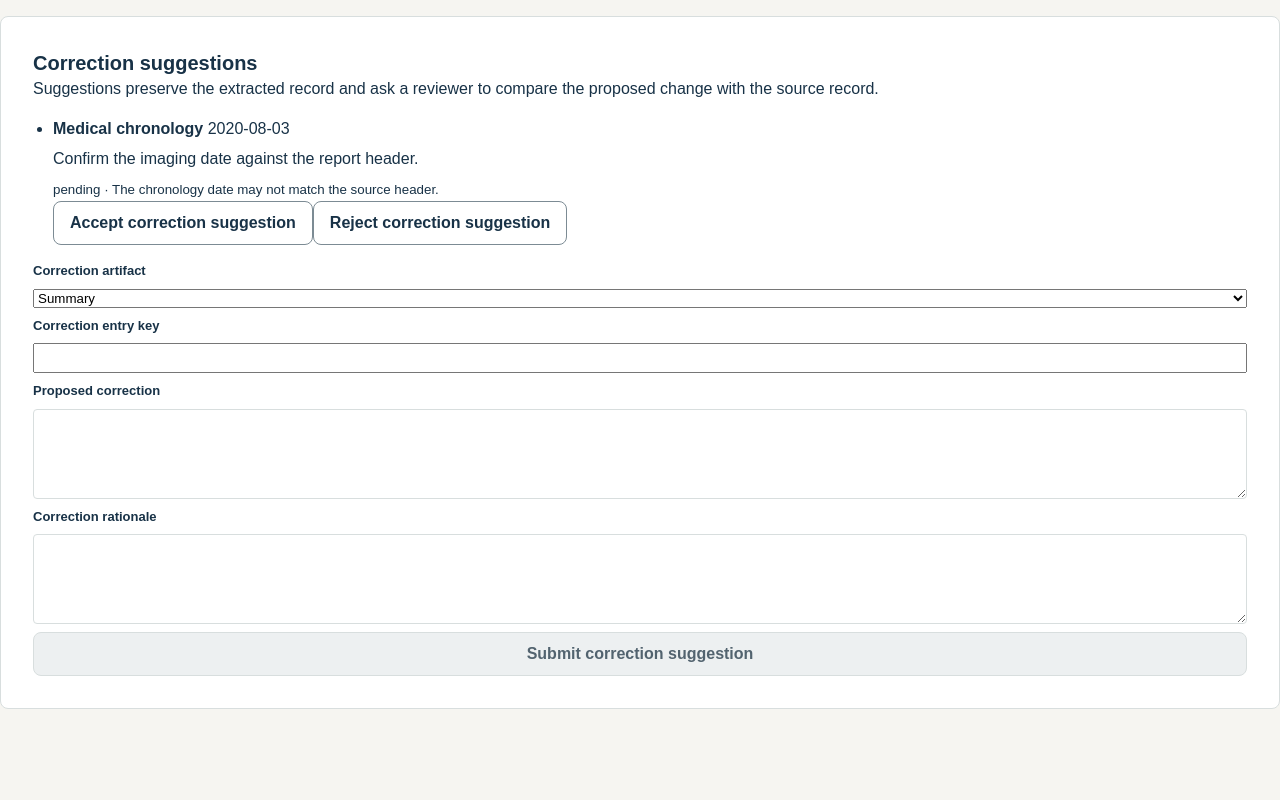
it: submits a correction suggestion and displays the pending revision-scoped item
Expected: the text "Confirm the imaging date against the report header." is shown, [53,150,419,167]
Select "Medical chronology" in the dropdown labelled "Correction artifact" at (640, 298), box [33,288,1247,308]
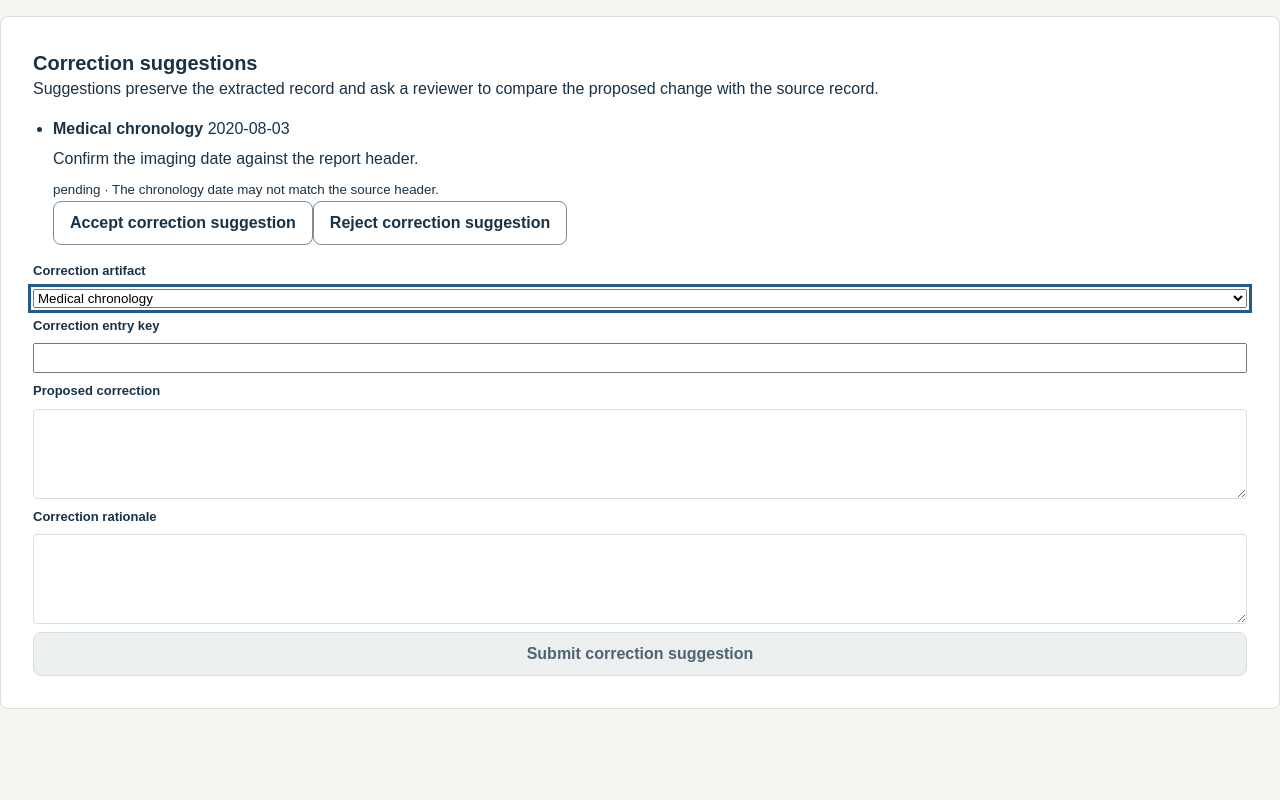
Type "2020-08-04" into the field labelled "Correction entry key".
click(640, 358); type("2020-08-04")  # box [33,343,1247,373]
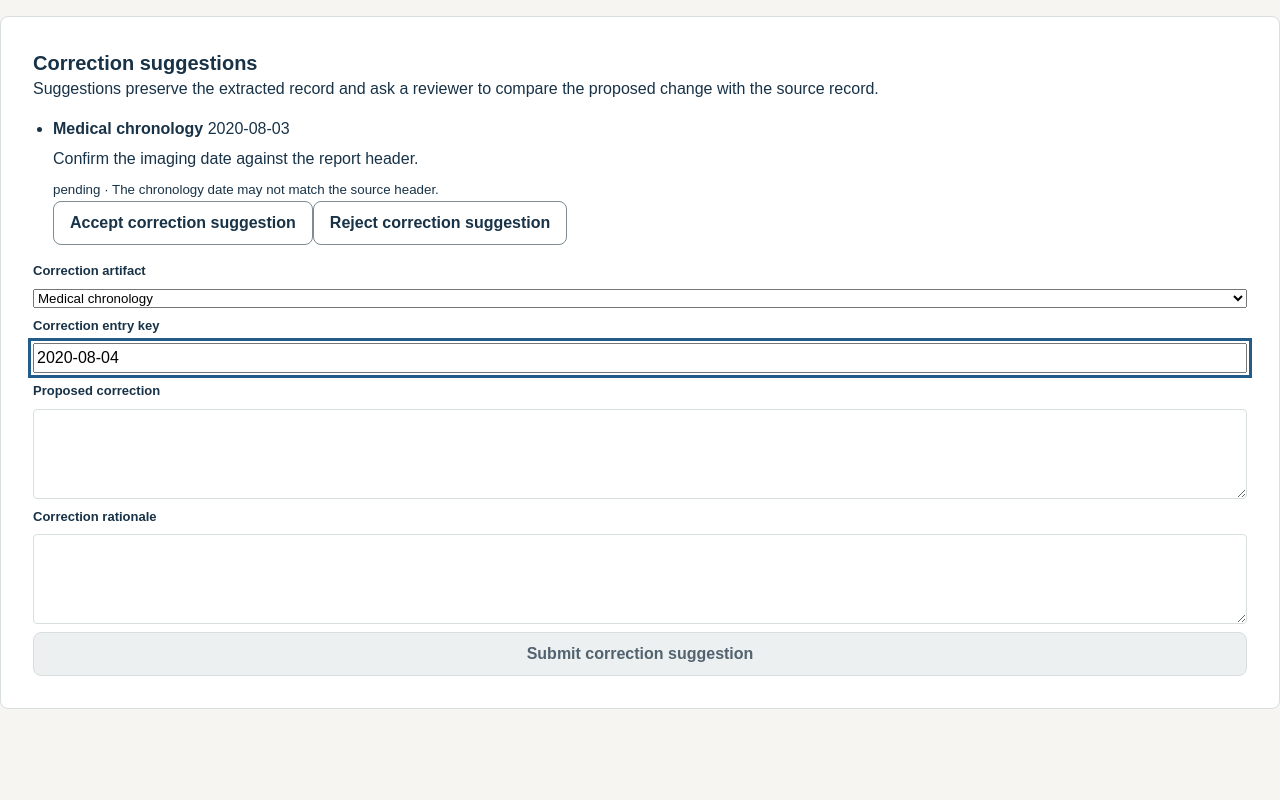
Type "Use the signed report date." into the text box labelled "Proposed correction".
click(640, 454); type("Use the signed report date.")  # box [33,408,1247,498]
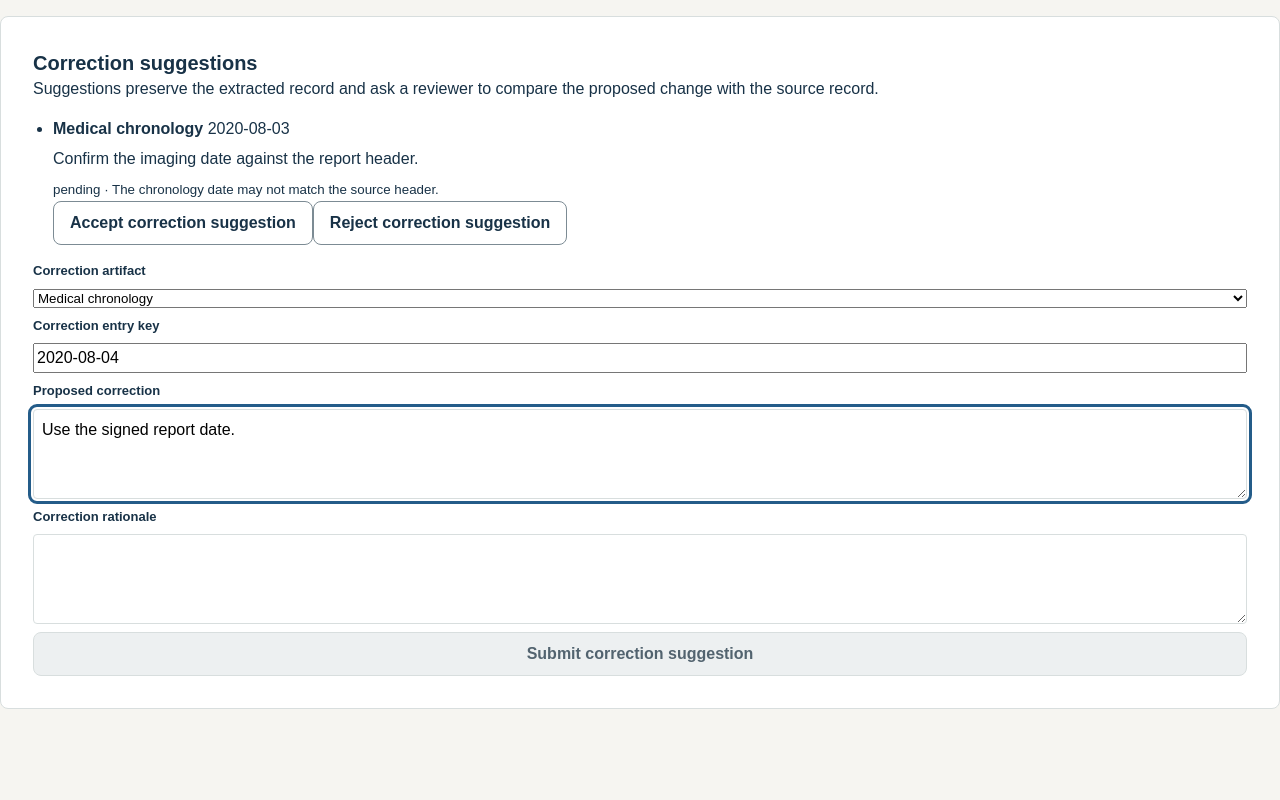
Type "The source header controls the date." into the text box labelled "Correction rationale".
click(640, 579); type("The source header controls the date.")  # box [33,534,1247,624]
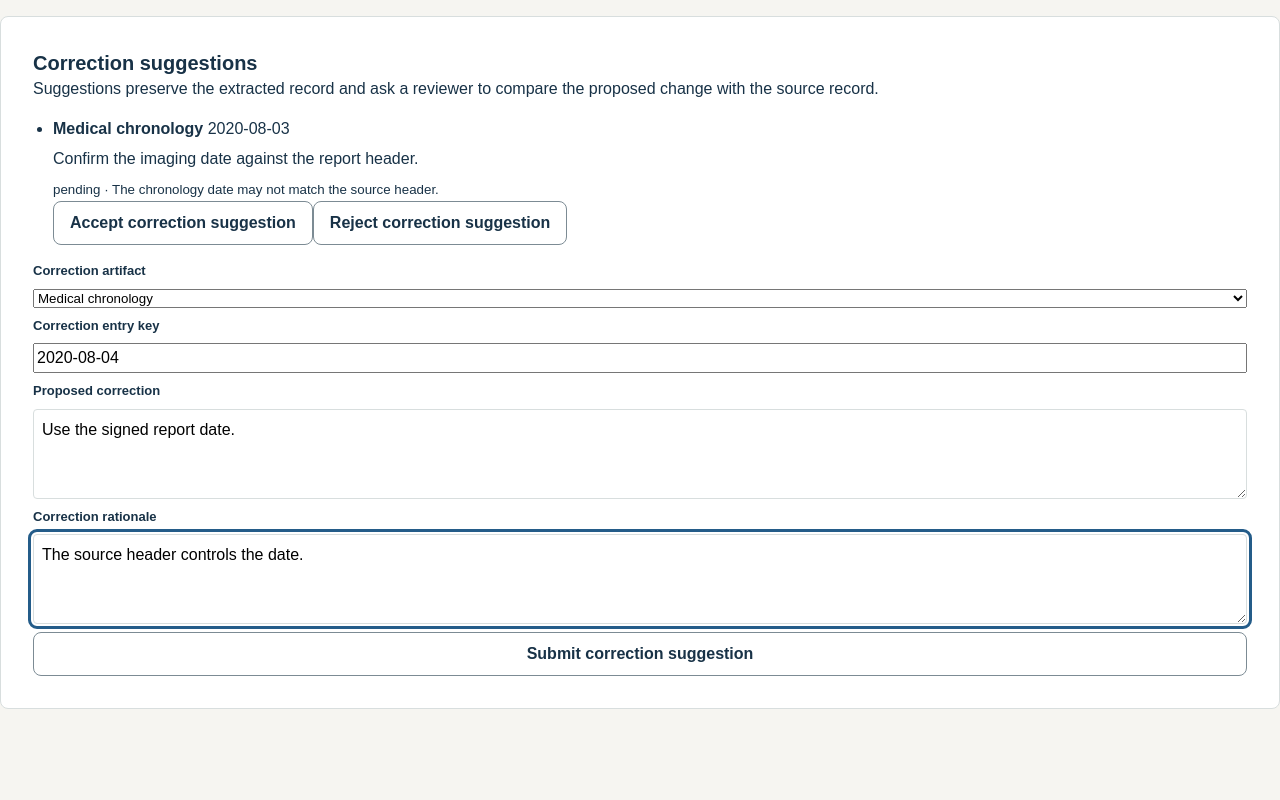
Click the button "Submit correction suggestion".
click(640, 654)  # box [33,632,1247,676]
(page scrolled)
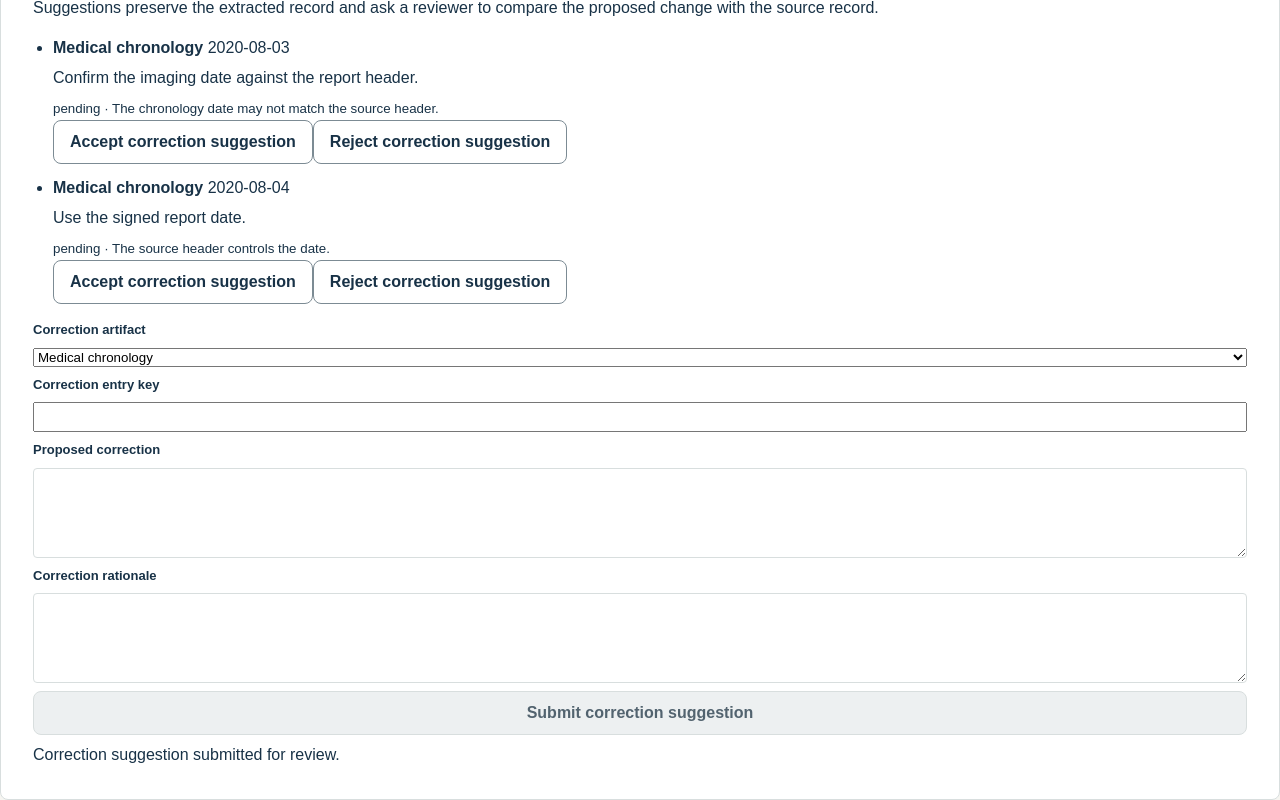
Expected: the text "Correction suggestion submitted for review." is shown, [33,746,340,763]
